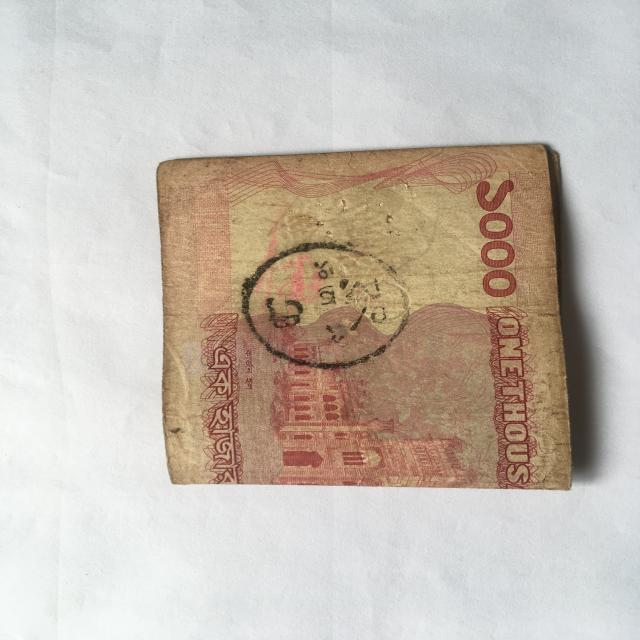Taka: (149, 143, 584, 496)
